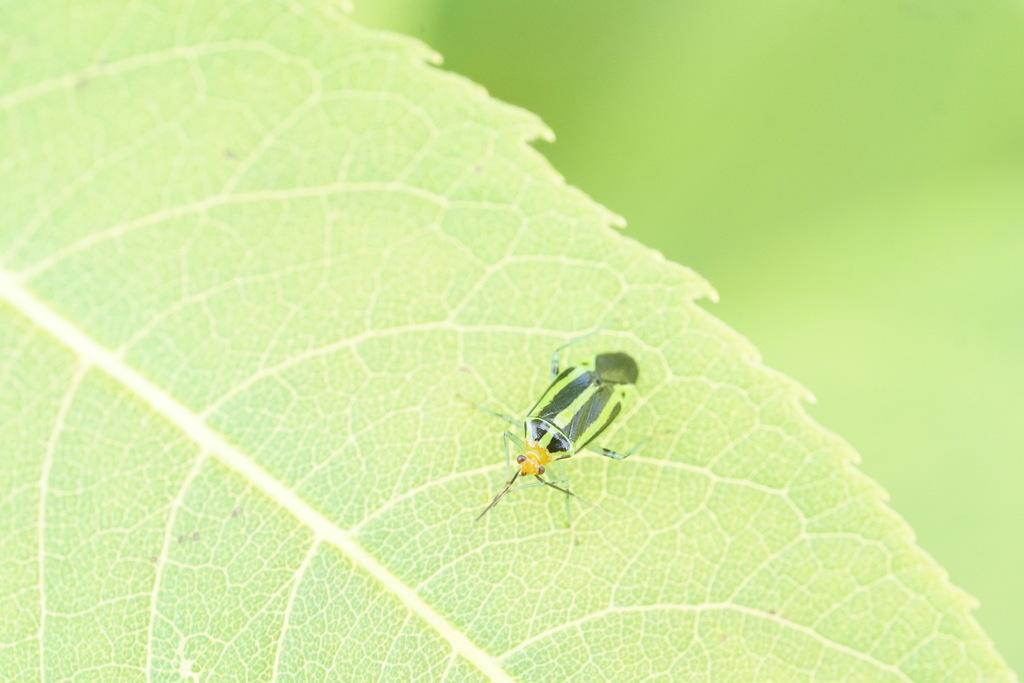plant_bugs: (444, 320, 677, 548)
